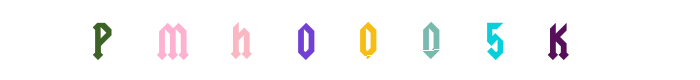0: (311, 0, 391, 80), (327, 0, 407, 80)
5: (454, 0, 534, 80)
H: (289, 0, 369, 80)
K: (517, 0, 597, 80)
M: (176, 0, 256, 80)
O: (366, 0, 446, 80)
P: (60, 0, 140, 80)
